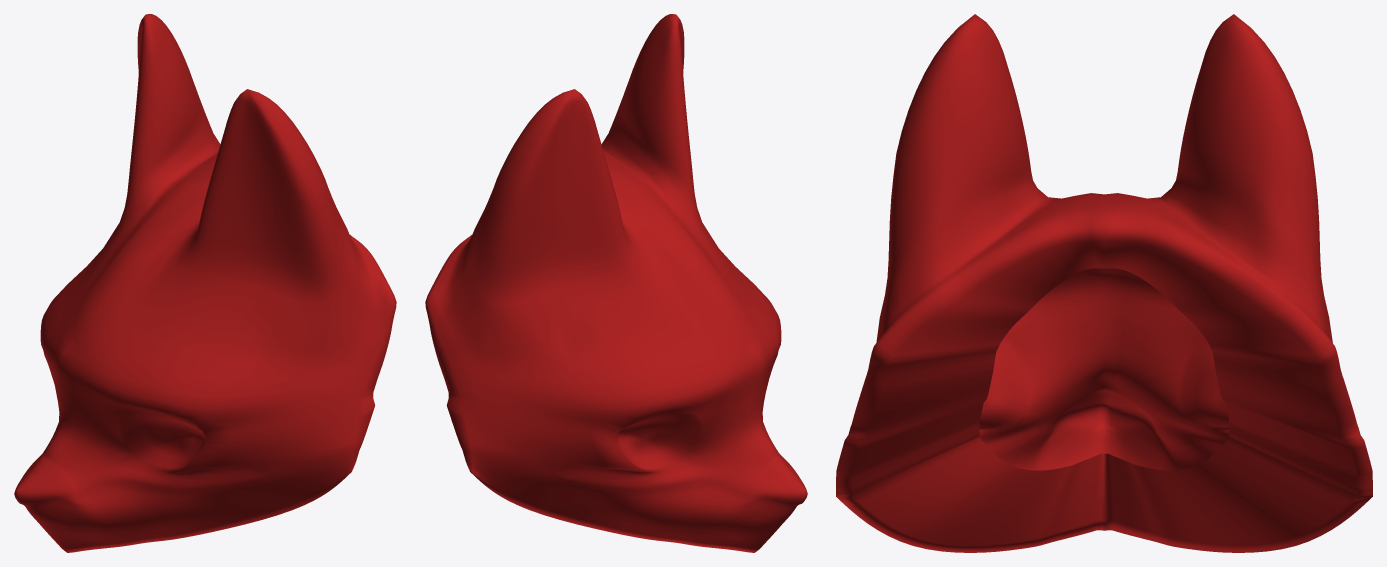
Rendered from chatmasque.fbx.
The picture shows the model from 3 angles, left to right: view 1: azimuth 30°, elevation 25°; view 2: azimuth 150°, elevation 25°; view 3: azimuth 270°, elevation 25°; orthographic projection. The views are drawn at different scales.
Visible parts, largest first — view 1: MasqueChatte001; view 2: MasqueChatte001; view 3: MasqueChatte001.
Part boxes in pixels (left/top/right/bottom): MasqueChatte001: left=14, top=14, right=396, bottom=552; MasqueChatte001: left=425, top=14, right=807, bottom=552; MasqueChatte001: left=836, top=14, right=1372, bottom=552.
Bounding box in the file's own units: 1.98 × 3.01 × 2.45.
